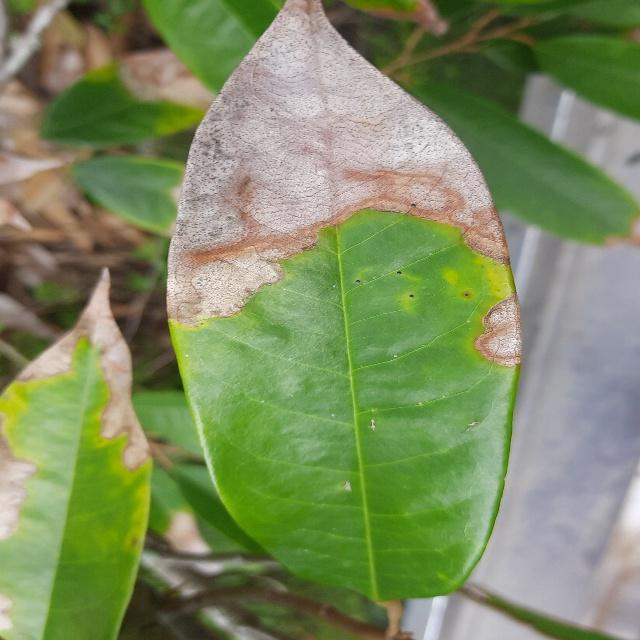Leaf Blight: (162, 0, 519, 619)
